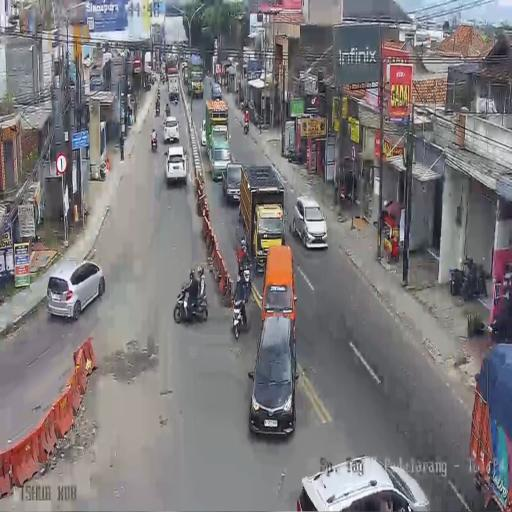car: (248, 246, 297, 432), (297, 452, 432, 510), (46, 257, 106, 319), (293, 197, 330, 250), (164, 144, 186, 185), (222, 162, 242, 204), (163, 115, 180, 143), (211, 82, 222, 101), (200, 119, 206, 146)
motorcycle: (174, 276, 208, 326), (231, 286, 250, 338), (287, 146, 304, 165), (151, 133, 158, 151), (244, 117, 250, 134), (150, 72, 156, 86), (160, 71, 166, 84), (155, 100, 160, 115), (165, 102, 170, 116), (173, 91, 178, 105)
truck: (238, 162, 284, 269), (204, 98, 230, 155), (187, 56, 205, 99), (166, 51, 179, 70), (182, 61, 190, 84)
